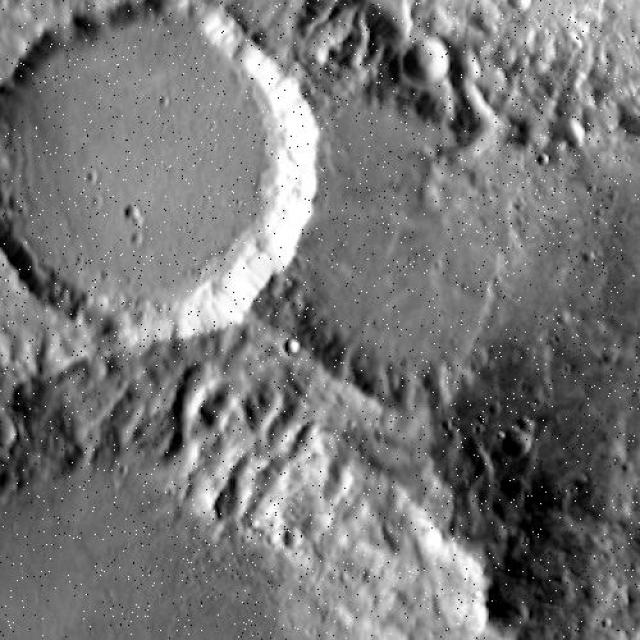crater: (147, 0, 640, 451), (0, 313, 592, 640), (0, 0, 351, 352), (0, 0, 252, 320), (0, 352, 236, 640)
